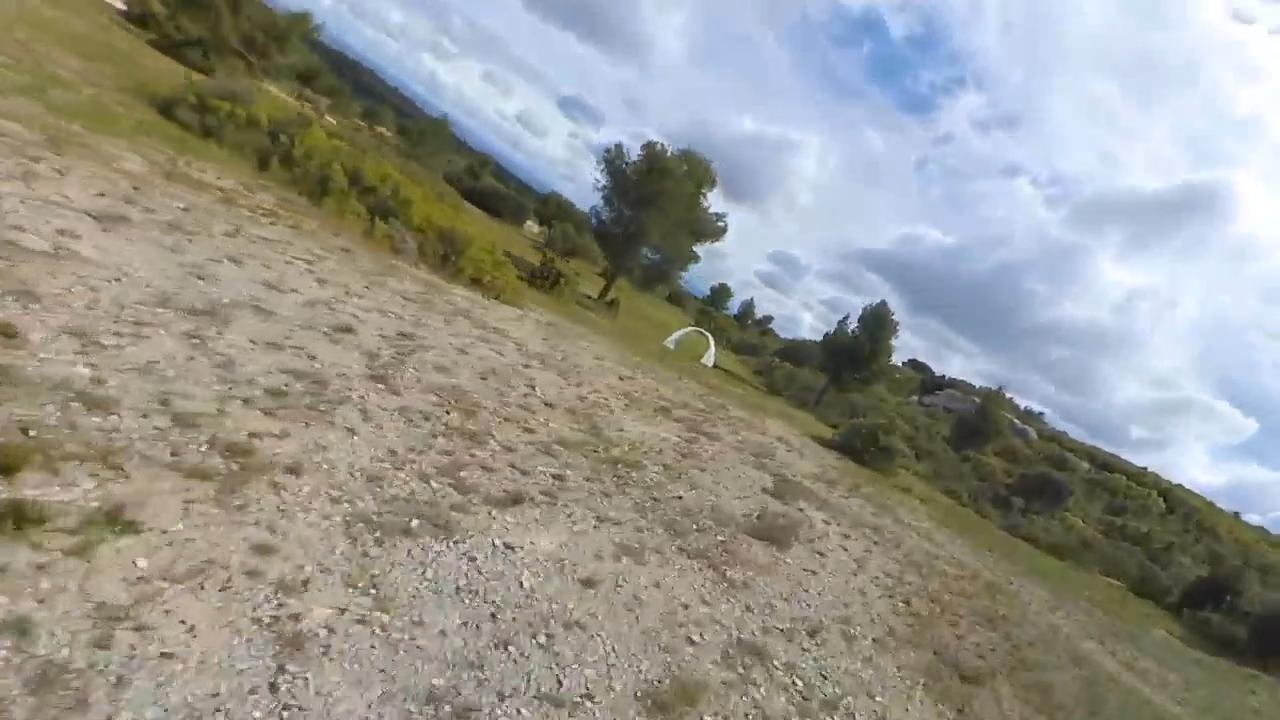gate: (664, 323, 716, 368)
